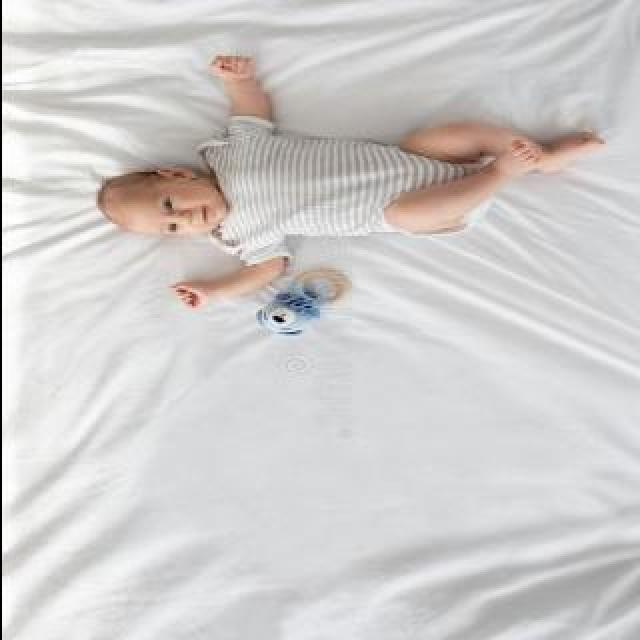baby: (91, 57, 605, 309)
